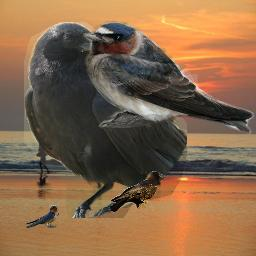Crow: (24, 22, 187, 218), (109, 170, 167, 214)
Swallow: (81, 20, 255, 135), (19, 205, 59, 228)
